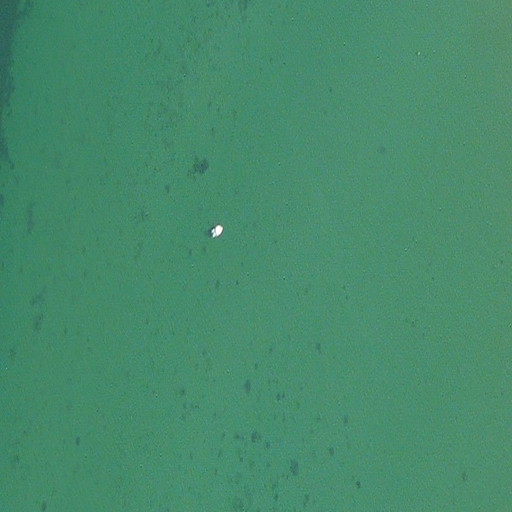ship: (209, 223, 225, 240)
